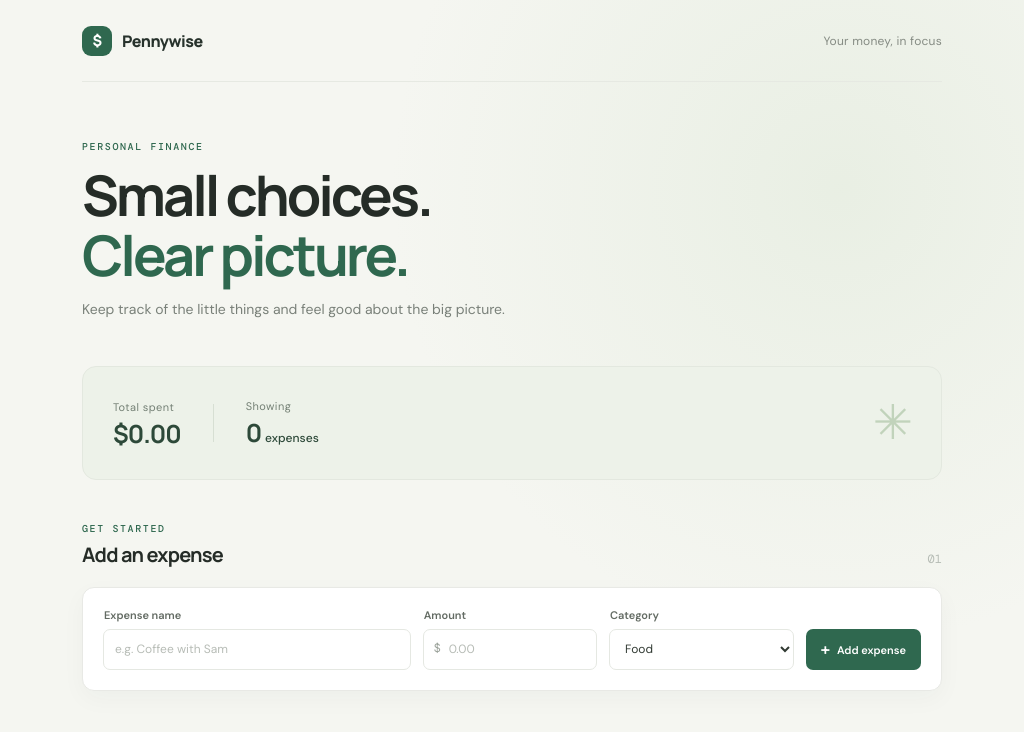
expense tracker › adds a valid expense and clears the form
The image size is (1024, 732).
In the field labelled "Expense name": (257, 649) [103,629,411,670], type "Lunch"
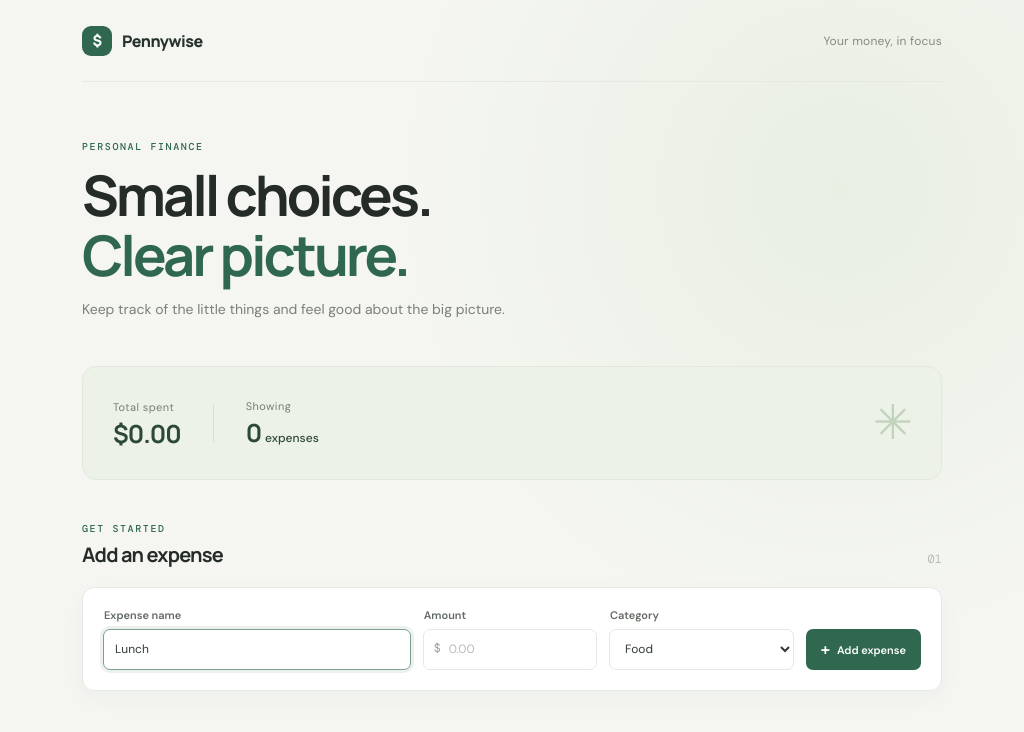
In the number field labelled "Amount": (510, 649) [423,629,597,670], type "25.50"
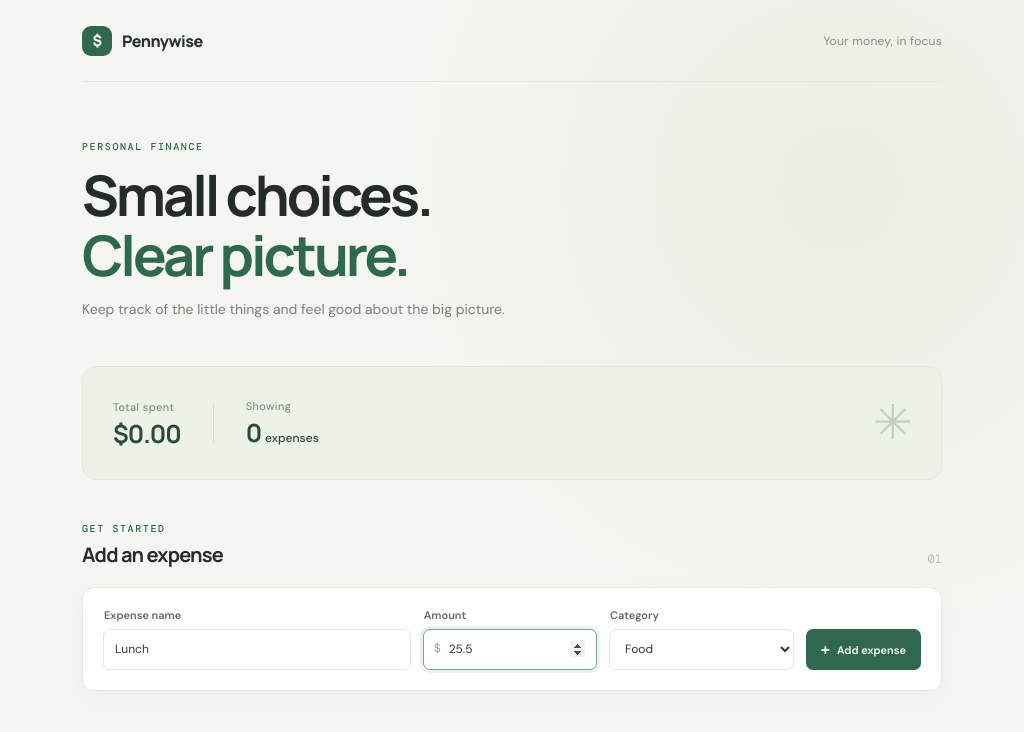
Select "Food" in the dropdown labelled "Category": (701, 649) [609,629,794,670]
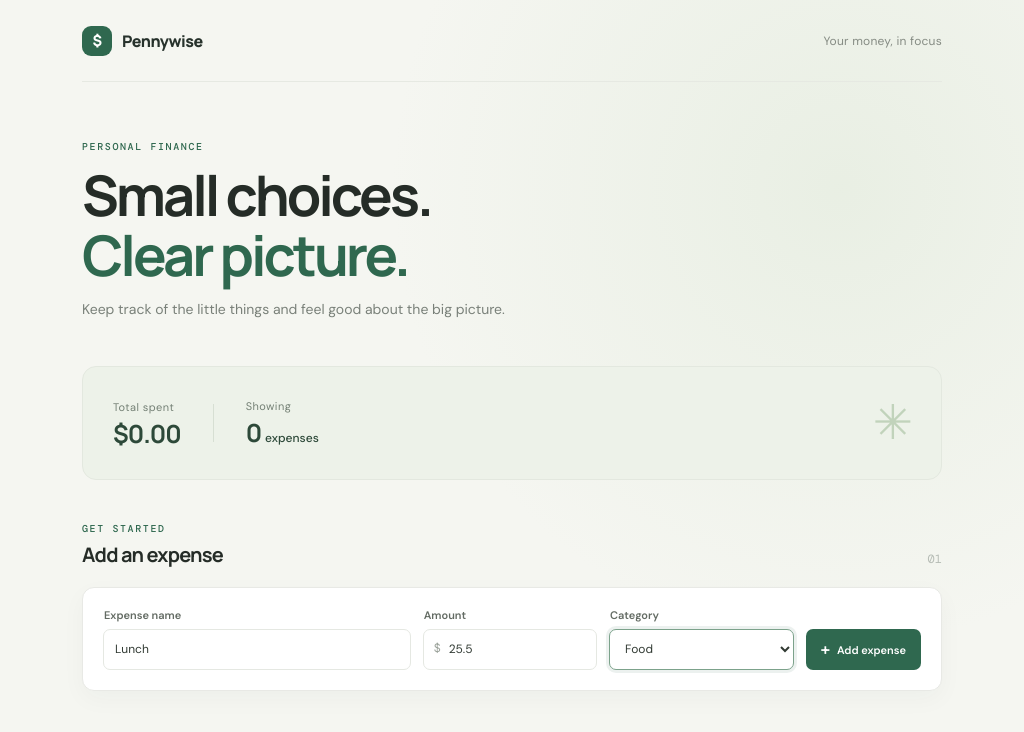
Click the button "+ Add expense": (863, 649) [806,629,921,670]
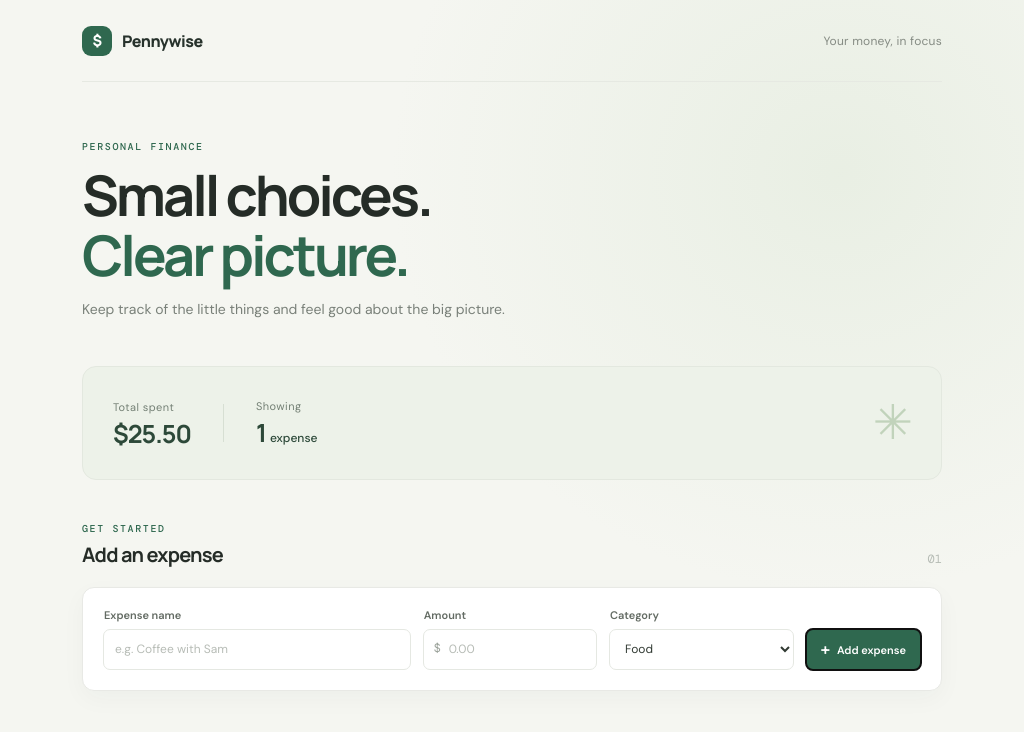
Check: the field labelled "Expense name" is empty, box [103,629,411,670]
Check: the element with test id "count" shows "1", box [256,415,266,450]
